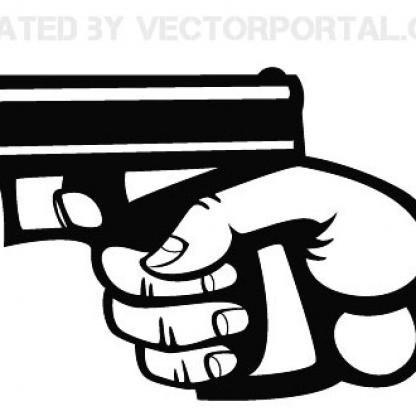gun: (0, 57, 337, 403)
